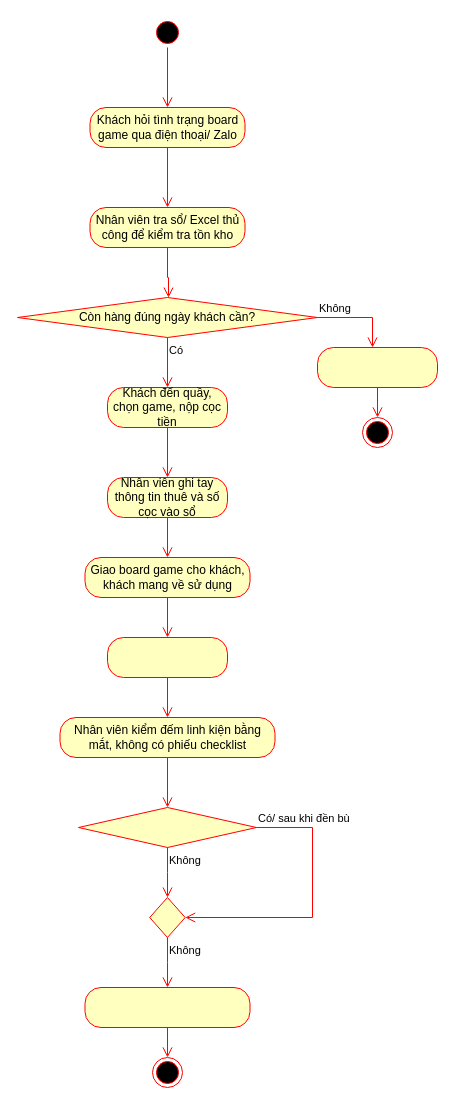
Some shapes in this 455 by 1105 pixel diagram are drawn without their labels. Here are the shapes that lost their labels. From the top down, the centre of each, then its label:
At [377,367]: "Báo khách hết hàng/ hẹn lại".
At [167,657]: "Khách hàng trả board game đúng/ trễ hạn".
At [167,827]: "Đủ linh kiện, đúng hạn?".
At [167,1007]: "Hoàn cọc còn lại bằng tiền mặt, không có phiếu xác nhận".
